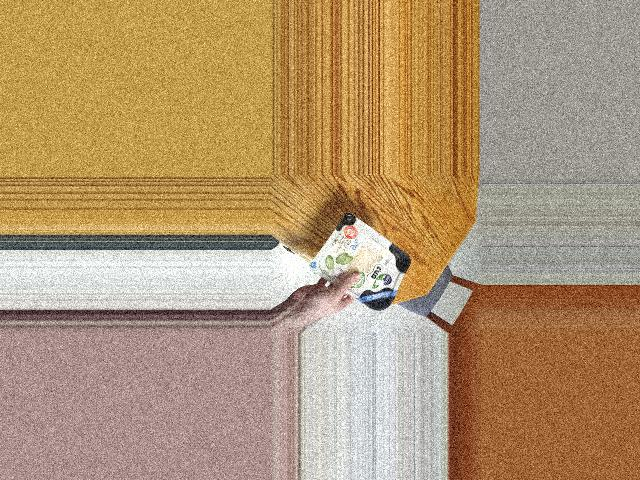cheese: (325, 219, 406, 316)
